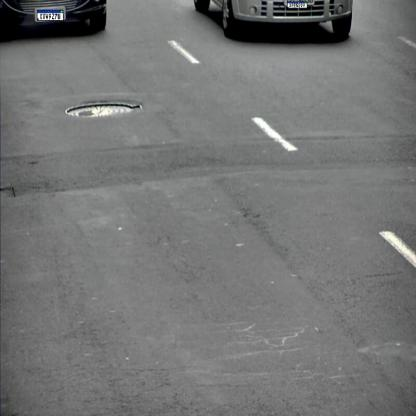PlacaM: (37, 10, 63, 21), (287, 2, 307, 8)
